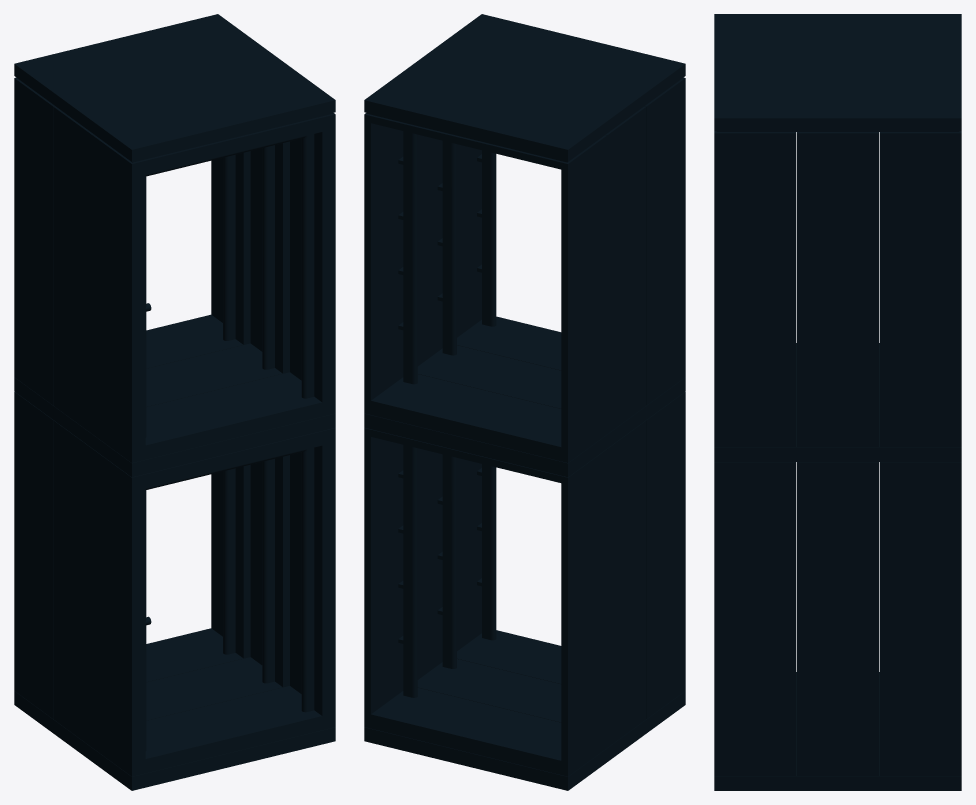
File: cabinet.dae
3 views of the same model, side by side, from view 1: azimuth 30°, elevation 25°; view 2: azimuth 150°, elevation 25°; view 3: azimuth 270°, elevation 25° (orthographic). The views are drawn at different scales.
Parts seen in each view (by area): view 1: Inner-Node-cabinet_dot_io-4, Inner-Node-cabinet_dot_io-1, Inner-Node-cabinet_dot_io-6, Inner-Node-cabinet_dot_io-7, Inner-Node-cabinet_dot_io-8, Inner-Node-cabinet_dot_io-5, Inner-Node-cabinet_dot_io-2, Inner-Node-cabinet_dot_io-0, Inner-Node-cabinet_dot_io-3; view 2: Inner-Node-cabinet_dot_io-5, Inner-Node-cabinet_dot_io-2, Inner-Node-cabinet_dot_io-6, Inner-Node-cabinet_dot_io-7, Inner-Node-cabinet_dot_io-8, Inner-Node-cabinet_dot_io-4, Inner-Node-cabinet_dot_io-1, Inner-Node-cabinet_dot_io-0, Inner-Node-cabinet_dot_io-3; view 3: Inner-Node-cabinet_dot_io-6, Inner-Node-cabinet_dot_io-4, Inner-Node-cabinet_dot_io-5, Inner-Node-cabinet_dot_io-1, Inner-Node-cabinet_dot_io-2, Inner-Node-cabinet_dot_io-7, Inner-Node-cabinet_dot_io-8, Inner-Node-cabinet_dot_io-0, Inner-Node-cabinet_dot_io-3.
Boxes of the visible parts, x1,y1,x2,y2 form: Inner-Node-cabinet_dot_io-4: (92, 113, 335, 462); Inner-Node-cabinet_dot_io-1: (92, 427, 335, 776); Inner-Node-cabinet_dot_io-6: (14, 14, 335, 162); Inner-Node-cabinet_dot_io-7: (53, 106, 289, 433); Inner-Node-cabinet_dot_io-8: (53, 420, 289, 747); Inner-Node-cabinet_dot_io-5: (14, 77, 250, 405); Inner-Node-cabinet_dot_io-2: (14, 391, 250, 718); Inner-Node-cabinet_dot_io-0: (14, 691, 335, 790); Inner-Node-cabinet_dot_io-3: (14, 377, 335, 477); Inner-Node-cabinet_dot_io-5: (364, 113, 607, 462); Inner-Node-cabinet_dot_io-2: (364, 427, 607, 776); Inner-Node-cabinet_dot_io-6: (364, 14, 685, 162); Inner-Node-cabinet_dot_io-7: (417, 106, 646, 433); Inner-Node-cabinet_dot_io-8: (417, 420, 646, 747); Inner-Node-cabinet_dot_io-4: (457, 77, 685, 405); Inner-Node-cabinet_dot_io-1: (457, 391, 685, 718); Inner-Node-cabinet_dot_io-0: (364, 691, 685, 790); Inner-Node-cabinet_dot_io-3: (364, 377, 685, 477); Inner-Node-cabinet_dot_io-6: (714, 14, 961, 131); Inner-Node-cabinet_dot_io-4: (714, 131, 796, 446); Inner-Node-cabinet_dot_io-5: (879, 131, 961, 446); Inner-Node-cabinet_dot_io-1: (714, 462, 796, 775); Inner-Node-cabinet_dot_io-2: (879, 462, 961, 775); Inner-Node-cabinet_dot_io-7: (797, 132, 878, 446); Inner-Node-cabinet_dot_io-8: (797, 462, 878, 775); Inner-Node-cabinet_dot_io-0: (714, 672, 961, 790); Inner-Node-cabinet_dot_io-3: (714, 343, 961, 461).
Bounding box in the file's own units: 120 × 360 × 120.
